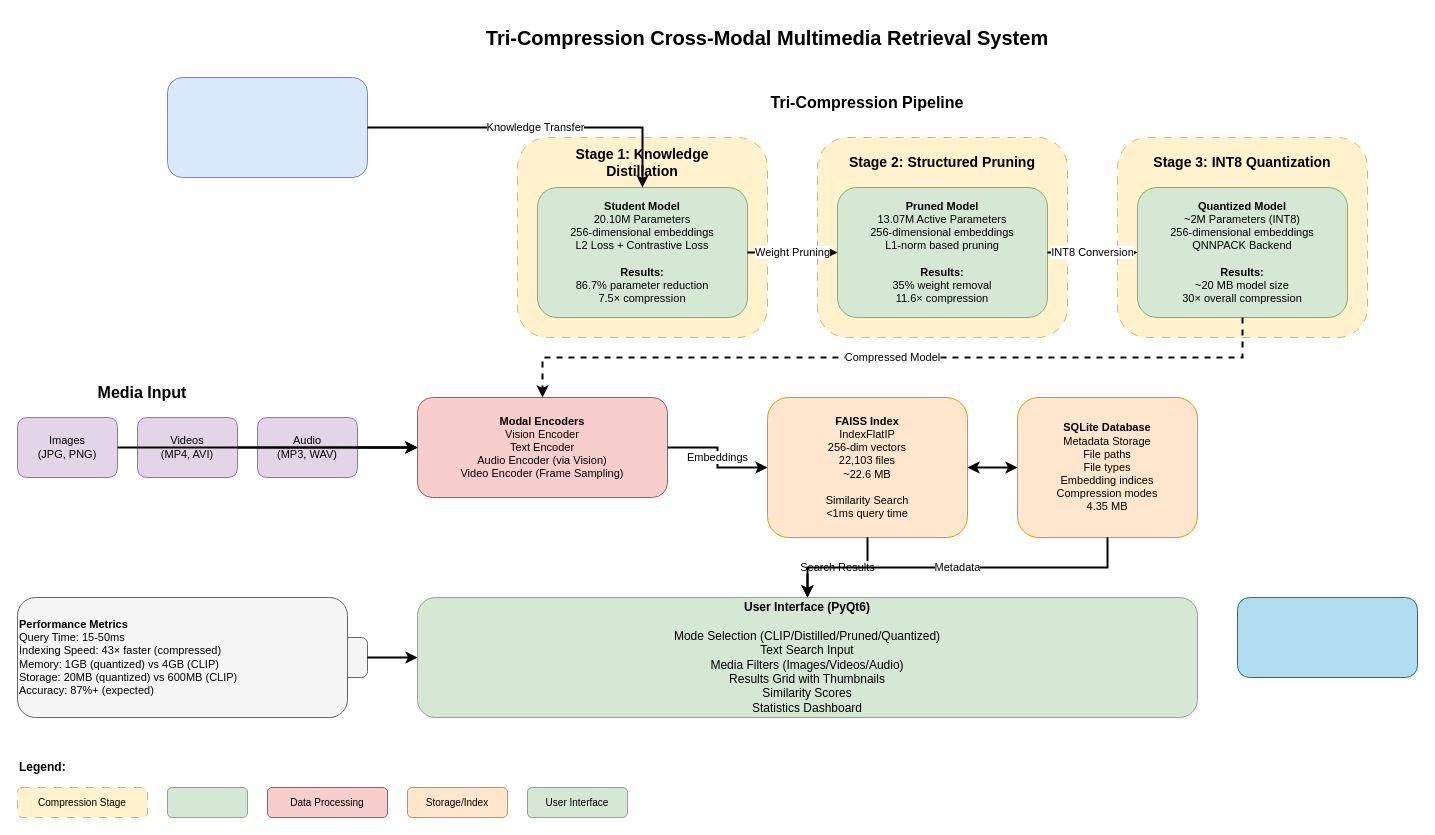
Some shapes in this 1435 by 835 pixel diagram are drawn without their labels. The shapes that lost their labels are listed below. From the top down, each one's centre as x and y in pixels, then its label:
At [267,127]: "CLIP Teacher Model ViT-B/32 151.28M Parameters 512-dimensional embeddings".
At [1327,637]: "🔒 100% Offline Zero Data Transmission Complete Privacy".
At [207,802]: "Model".
